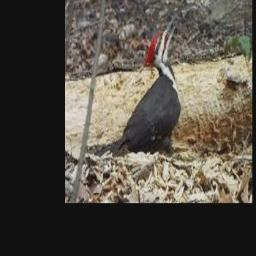Woodpecker: (94, 17, 181, 157)
